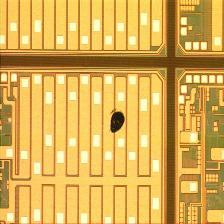PARTICLE: (107, 107, 129, 136)
